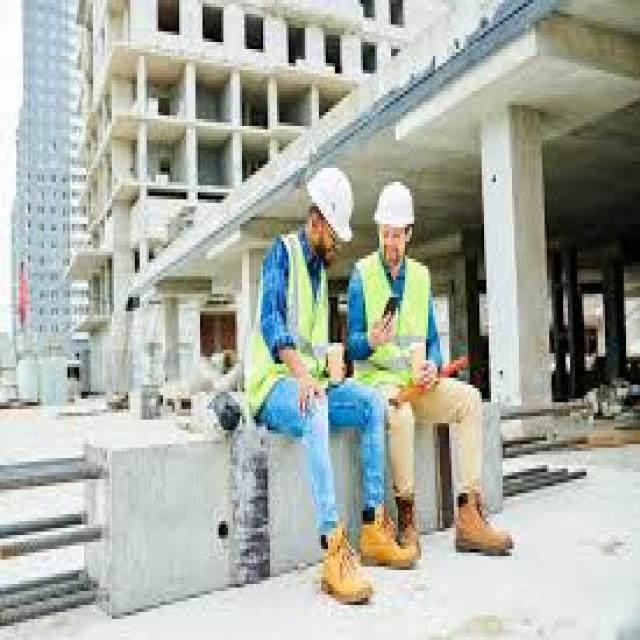shoes: (455, 490, 513, 558), (321, 529, 374, 602), (362, 505, 414, 573), (394, 497, 422, 558)
